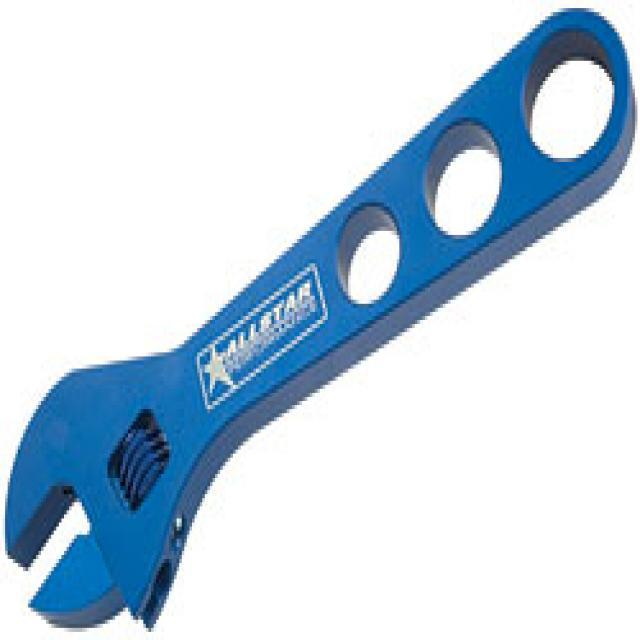wrench: (2, 0, 640, 632)
